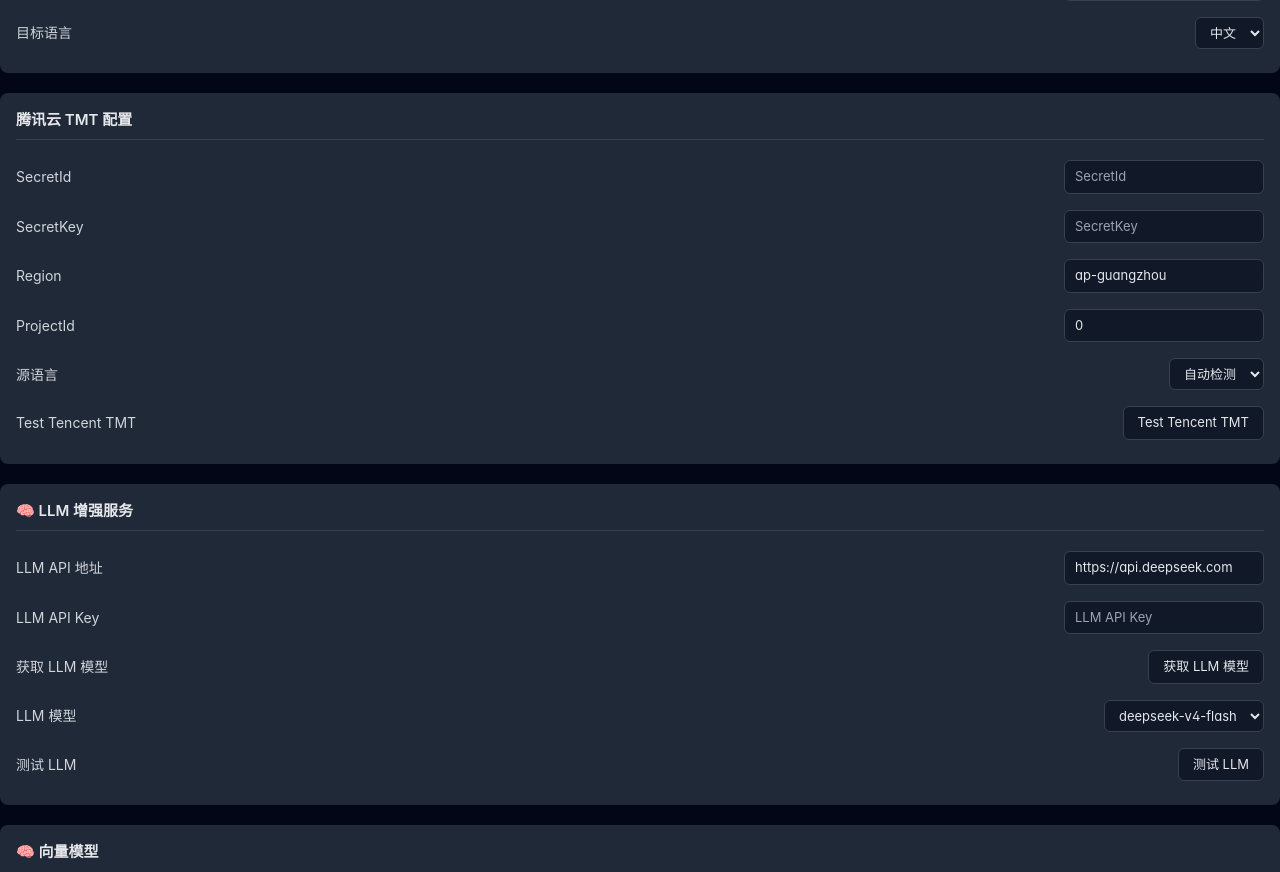
Test: SettingsPanel 设置面板 › tests Tencent TMT by checking /health before /translate and surfaces auth failure as fail state
(page scrolled)
Click the button "Test Tencent TMT". click: (1193, 423)
box: [1122, 406, 1264, 440]
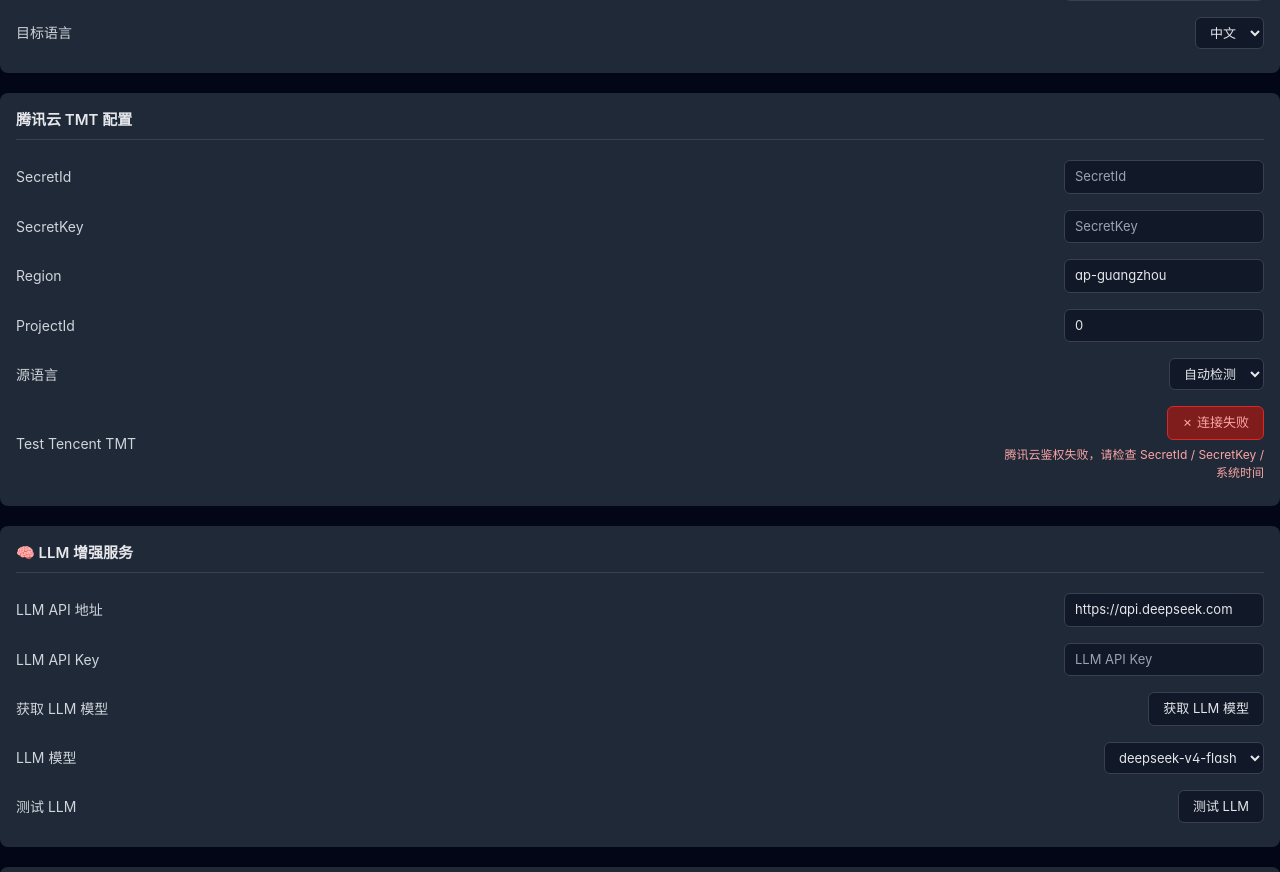
Check: the button "✗ 连接失败" is shown, box [1167, 406, 1264, 440]
